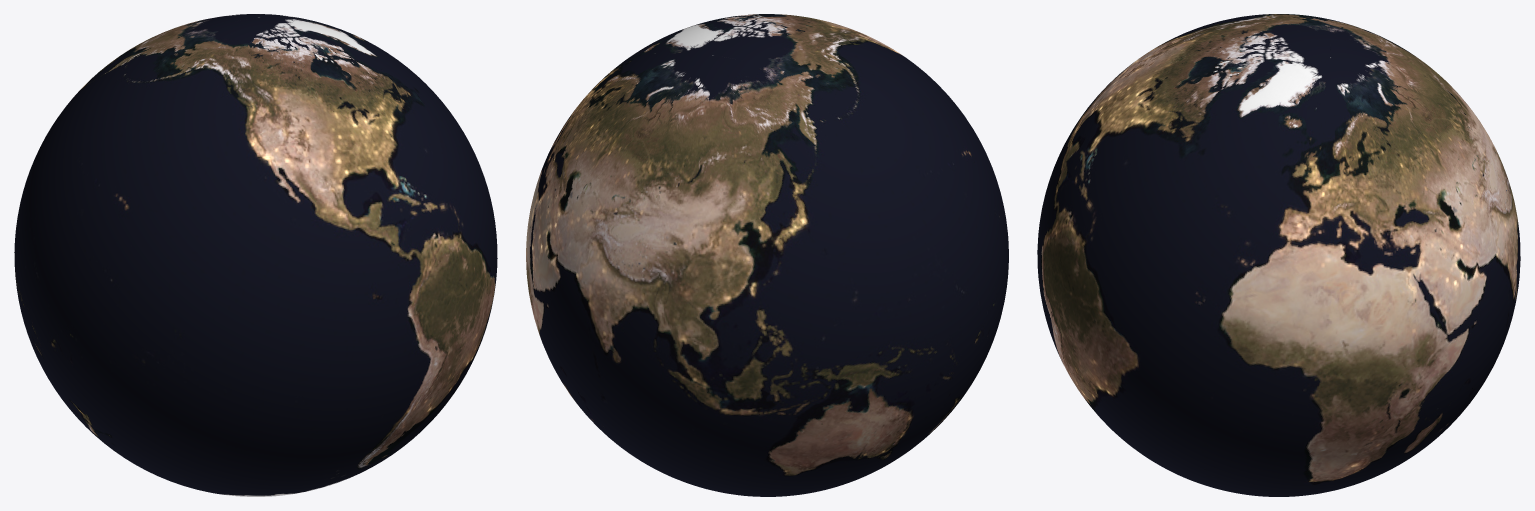
Rendered from earth.glb.
3 views of the same model, side by side, from view 1: azimuth 30°, elevation 25°; view 2: azimuth 150°, elevation 25°; view 3: azimuth 270°, elevation 25° (orthographic).
Visible parts, largest first — view 1: Earth_Diffuse_6K.001_3; view 2: Earth_Diffuse_6K.001_3; view 3: Earth_Diffuse_6K.001_3.
Boxes of the visible parts, x1=… form: Earth_Diffuse_6K.001_3: x1=14, y1=14, x2=497, y2=496; Earth_Diffuse_6K.001_3: x1=526, y1=14, x2=1008, y2=496; Earth_Diffuse_6K.001_3: x1=1037, y1=14, x2=1520, y2=496.
Bounding box in the file's own units: 5.27 × 5.28 × 5.27.
2 materials, 2 textured.
